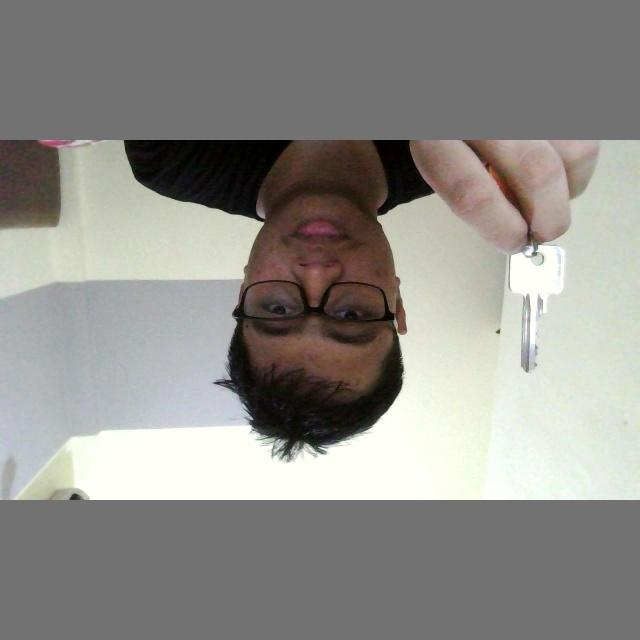Keys: (501, 232, 569, 384)
